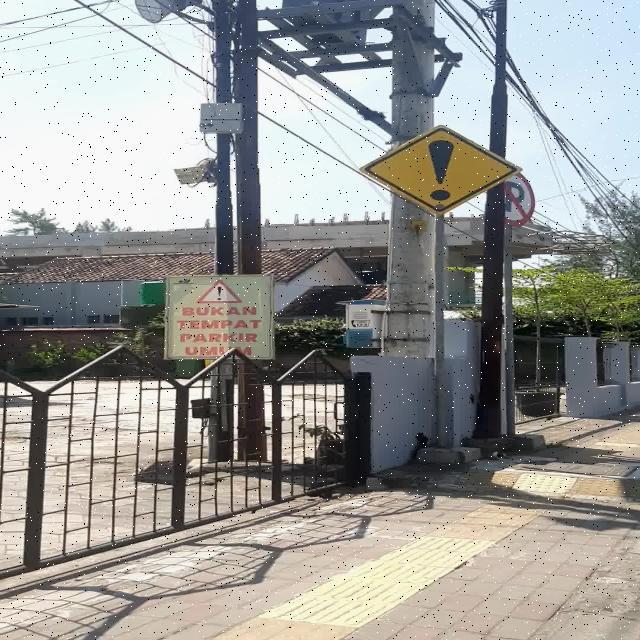Hati-Hati: (360, 126, 523, 214)
